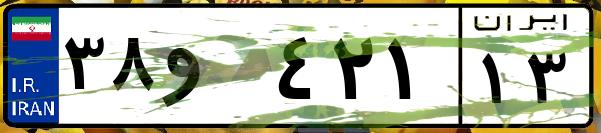1: (385, 28, 445, 110), (475, 38, 525, 113)
2: (330, 28, 385, 110)
3: (57, 26, 110, 100), (525, 38, 570, 115)
4: (270, 28, 330, 110)
8: (110, 28, 158, 98)
و: (158, 20, 270, 120)
